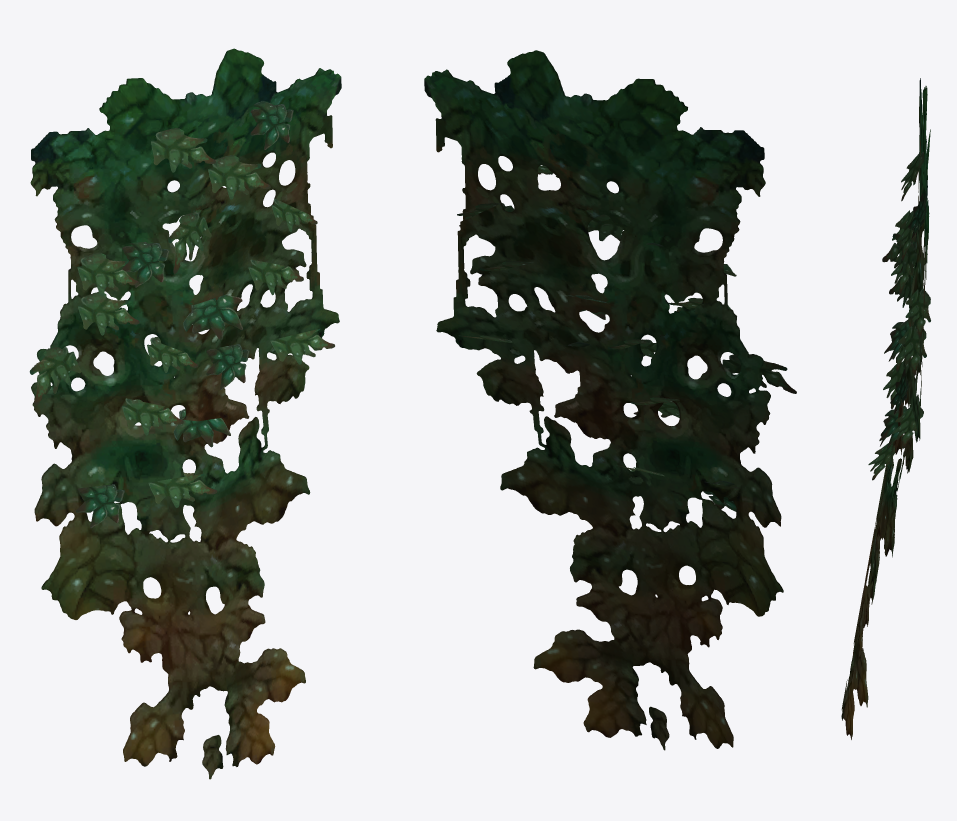
File: stemple_tallvinewall_straight_01.fbx
3 renders of one model, left to right at view 1: azimuth 30°, elevation 25°; view 2: azimuth 150°, elevation 25°; view 3: azimuth 270°, elevation 25°, orthographic. The views are drawn at different scales.
Visible parts, largest first — view 1: stemple_tallvinewall_straight_01-0; view 2: stemple_tallvinewall_straight_01-0; view 3: stemple_tallvinewall_straight_01-0.
Part boxes in pixels (x1=…): stemple_tallvinewall_straight_01-0: x1=29, y1=48, x2=341, y2=779; stemple_tallvinewall_straight_01-0: x1=424, y1=50, x2=796, y2=750; stemple_tallvinewall_straight_01-0: x1=841, y1=78, x2=930, y2=739.
Bounding box in the file's own units: 3.07 × 5.97 × 0.8751.
